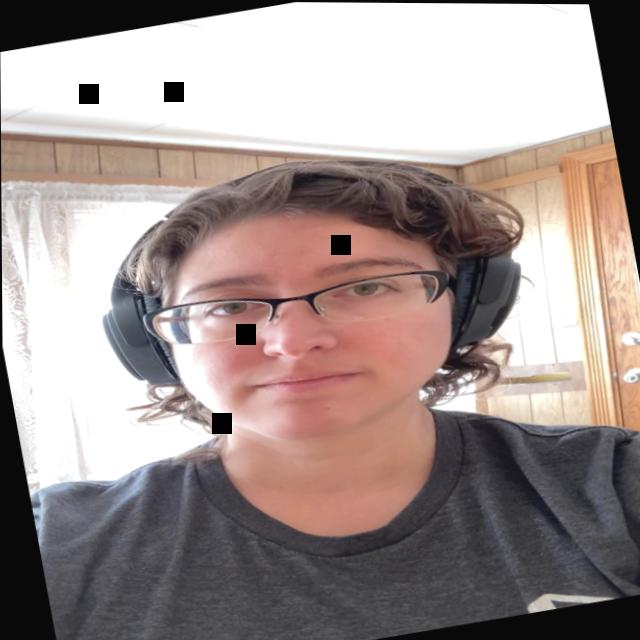NO-Mask: (136, 177, 473, 462)
